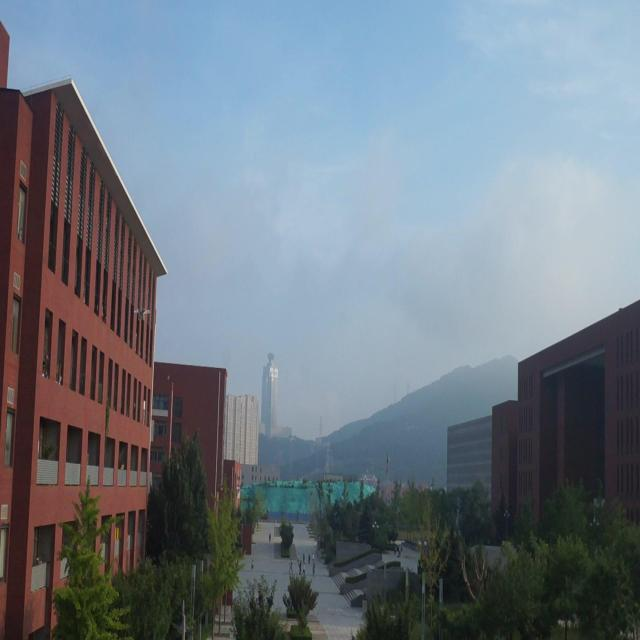drone: (132, 302, 154, 324)
